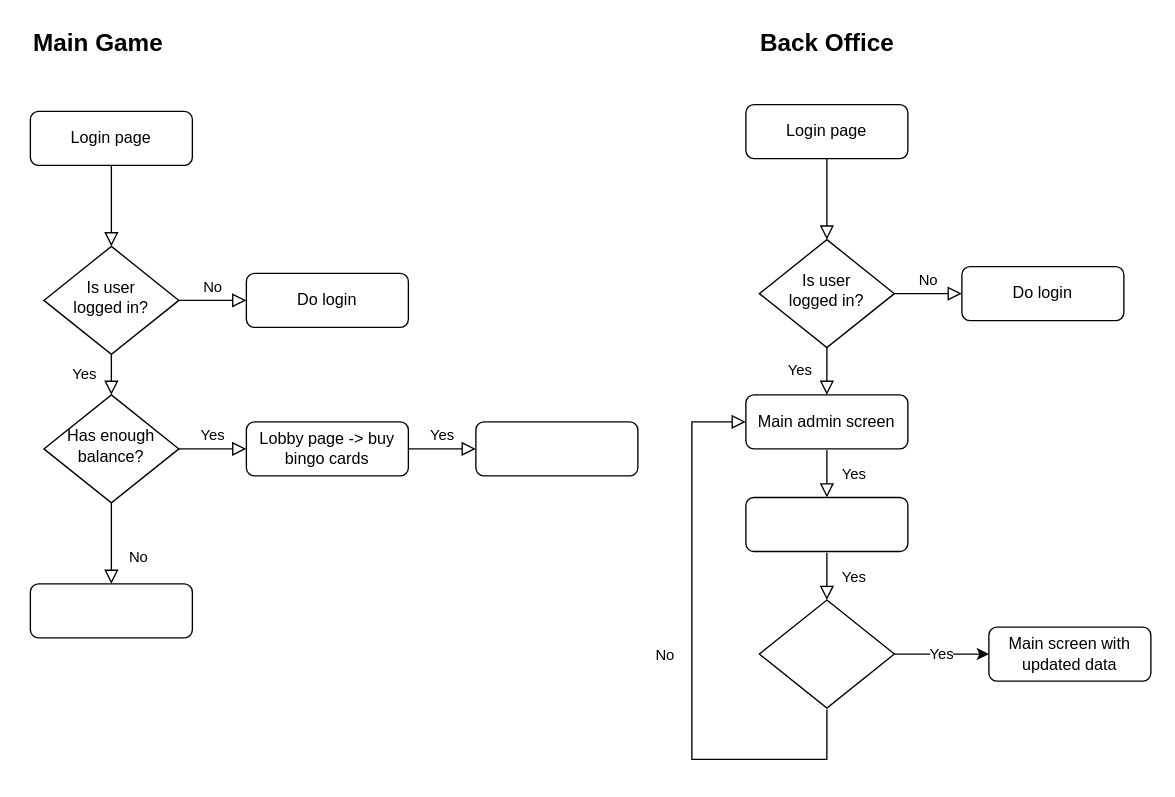
The diagram is 1175 pixels wide and 797 high, and some of its shapes have lost their labels. Each missing label, with the centre of its shape:
Edit player info: the point at 826,523
Play game: the point at 556,448
Save changes?: the point at 826,653
Top-up balance: the point at 110,610
